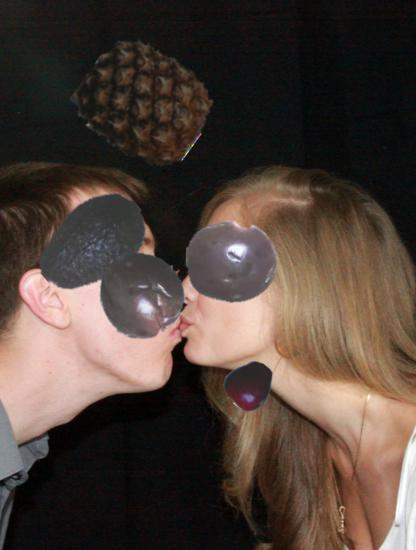Apple: (224, 359, 275, 410)
Avocado: (34, 185, 152, 303)
Passion: (186, 216, 279, 309), (97, 250, 186, 339)
Pineapple: (81, 39, 210, 168)
